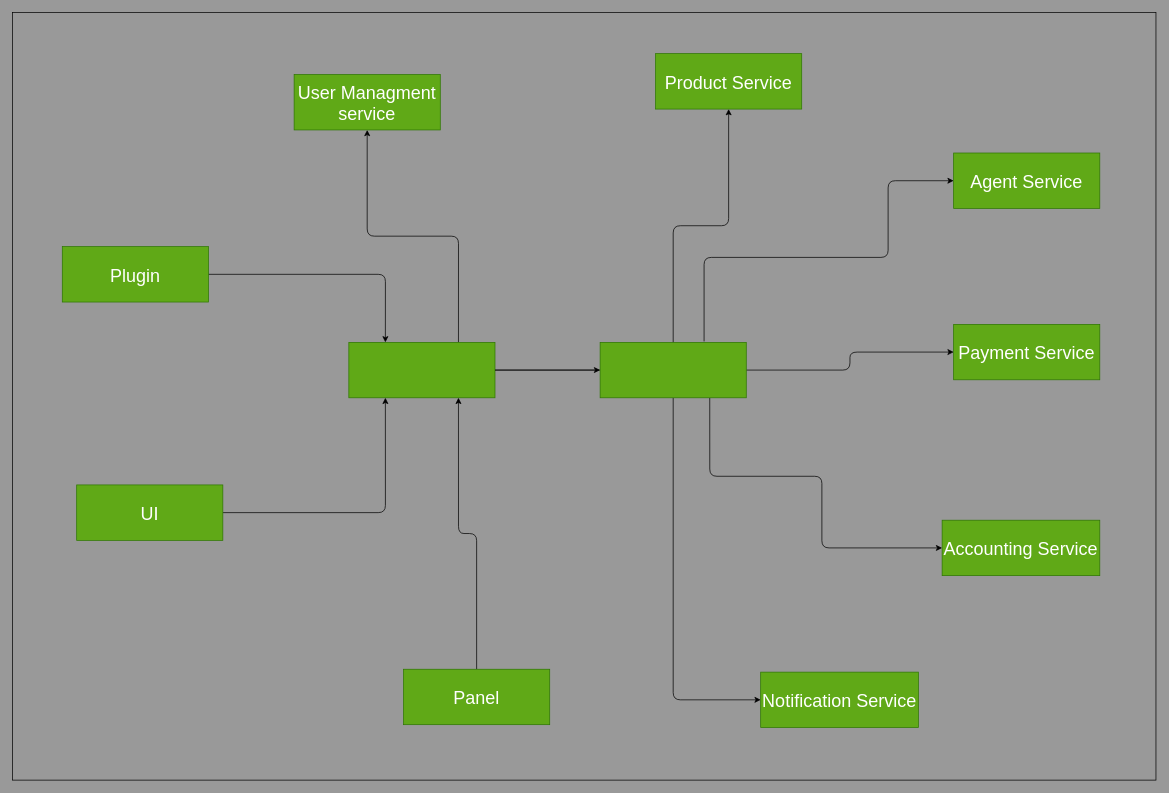
Image size: 1169x793. Some labels were removed from this diagram. The shapes that lost their labels are listed below. From the top down, each one's centre as x and y in pixels, then its label:
At (421,370): "API Gateway".
At (672,370): "Parcel Service".
